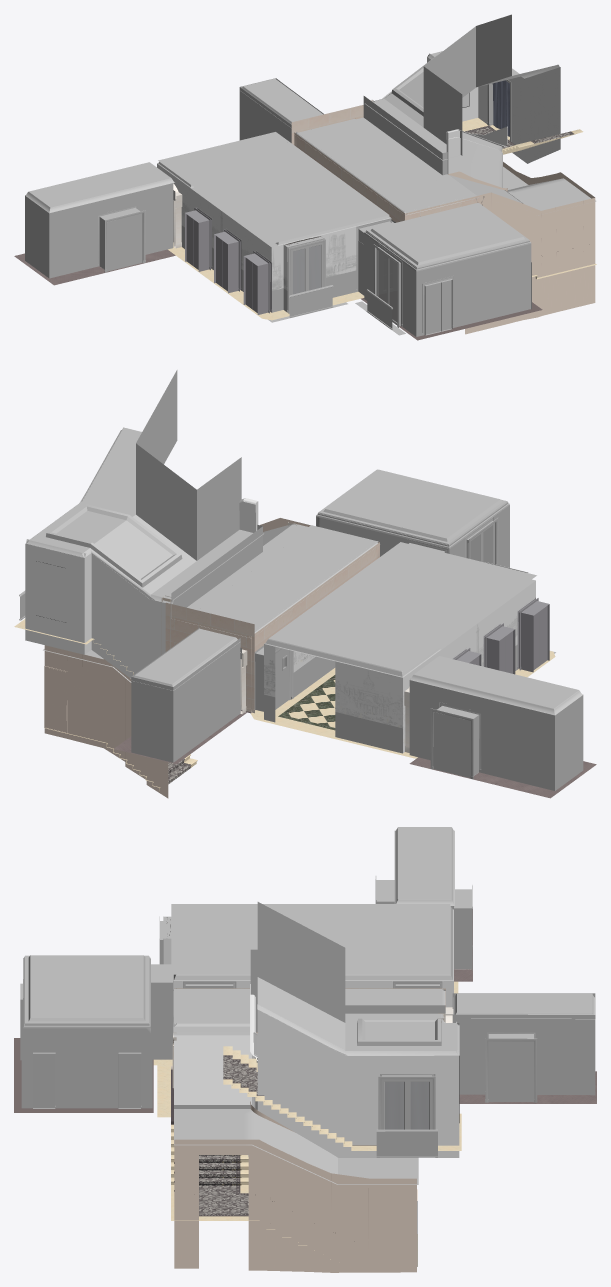
Rendered from LA_LiftAreaAndStairs.fbx.
3 views of the same model, one above another, from view 1: azimuth 30°, elevation 25°; view 2: azimuth 150°, elevation 25°; view 3: azimuth 270°, elevation 25° (orthographic). The views are drawn at different scales.
Parts seen in each view (by area): view 1: polySurface477, polySurface397, polySurface369, polySurface365; view 2: polySurface477, polySurface397, polySurface365; view 3: polySurface477, polySurface397, polySurface365, polySurface369.
Part boxes in pixels (box(x1,y1,x2,y2)): polySurface477: box(14, 14, 596, 340); polySurface397: box(97, 80, 511, 335); polySurface369: box(293, 80, 509, 294); polySurface365: box(157, 132, 464, 245); polySurface477: box(14, 370, 596, 798); polySurface397: box(240, 517, 549, 779); polySurface365: box(182, 542, 441, 677); polySurface477: box(14, 827, 596, 1272); polySurface397: box(20, 876, 537, 1129); polySurface365: box(173, 906, 453, 1026); polySurface369: box(385, 1082, 429, 1129).
Bounding box in the file's own units: 2190 × 1366 × 1907.
